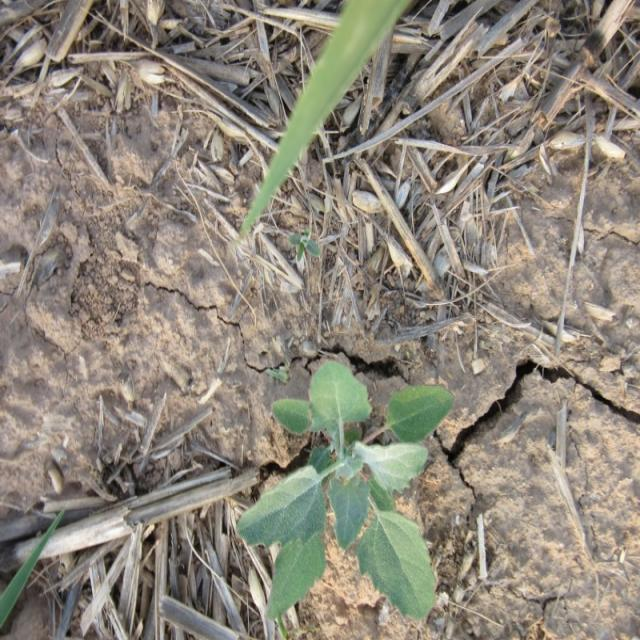ca: (240, 356, 452, 624)
